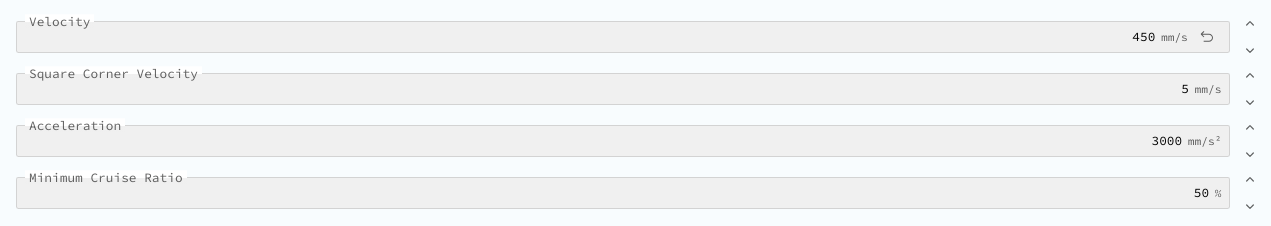
Scenario: MachineModule › resets a changed runtime limit to printer.cfg and commits that value
The width and height of the screenshot is (1271, 226).
What coordinates should you click on to do the following:
click the button named "Reset Velocity to its configured value"
I would click on:
 (1207, 37)
Its box is [1193,23,1221,51].
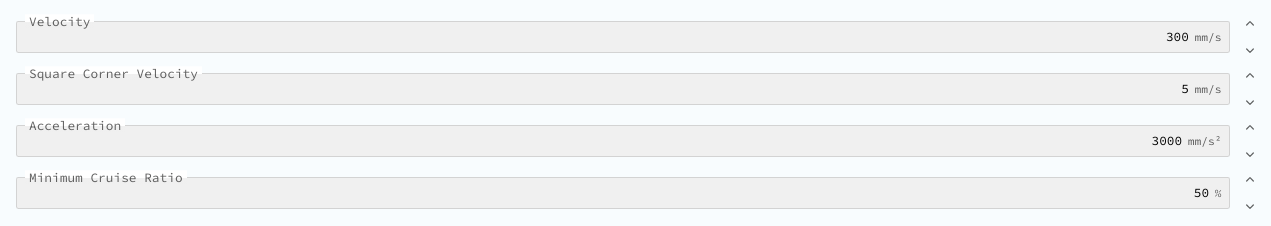
expect the number field with class "app-field__input" holds "300": met, box [25,27,1189,47]
